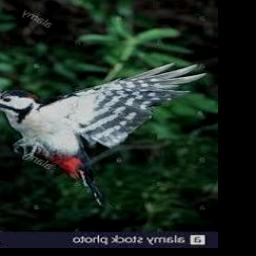Woodpecker: (0, 61, 205, 206)
